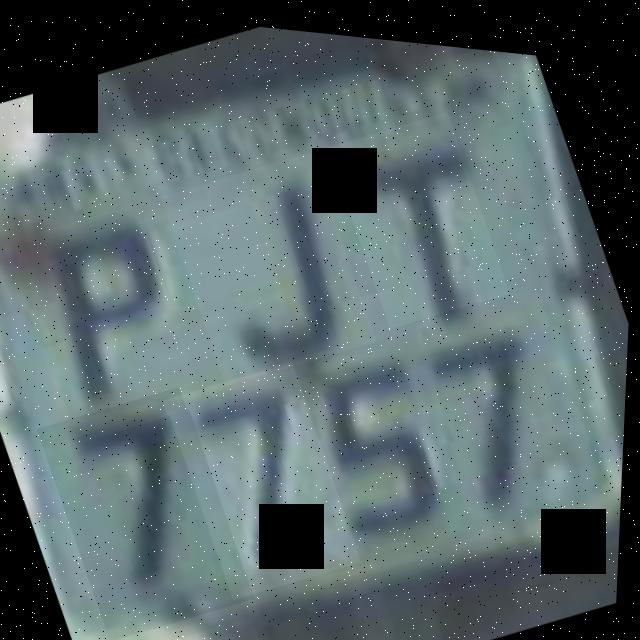5: (283, 310, 489, 555)
6: (95, 598, 286, 640)
7: (34, 370, 267, 640), (161, 344, 373, 604), (395, 271, 602, 519)
J: (156, 132, 386, 392)
P: (0, 189, 217, 451)
T: (322, 92, 518, 329)
